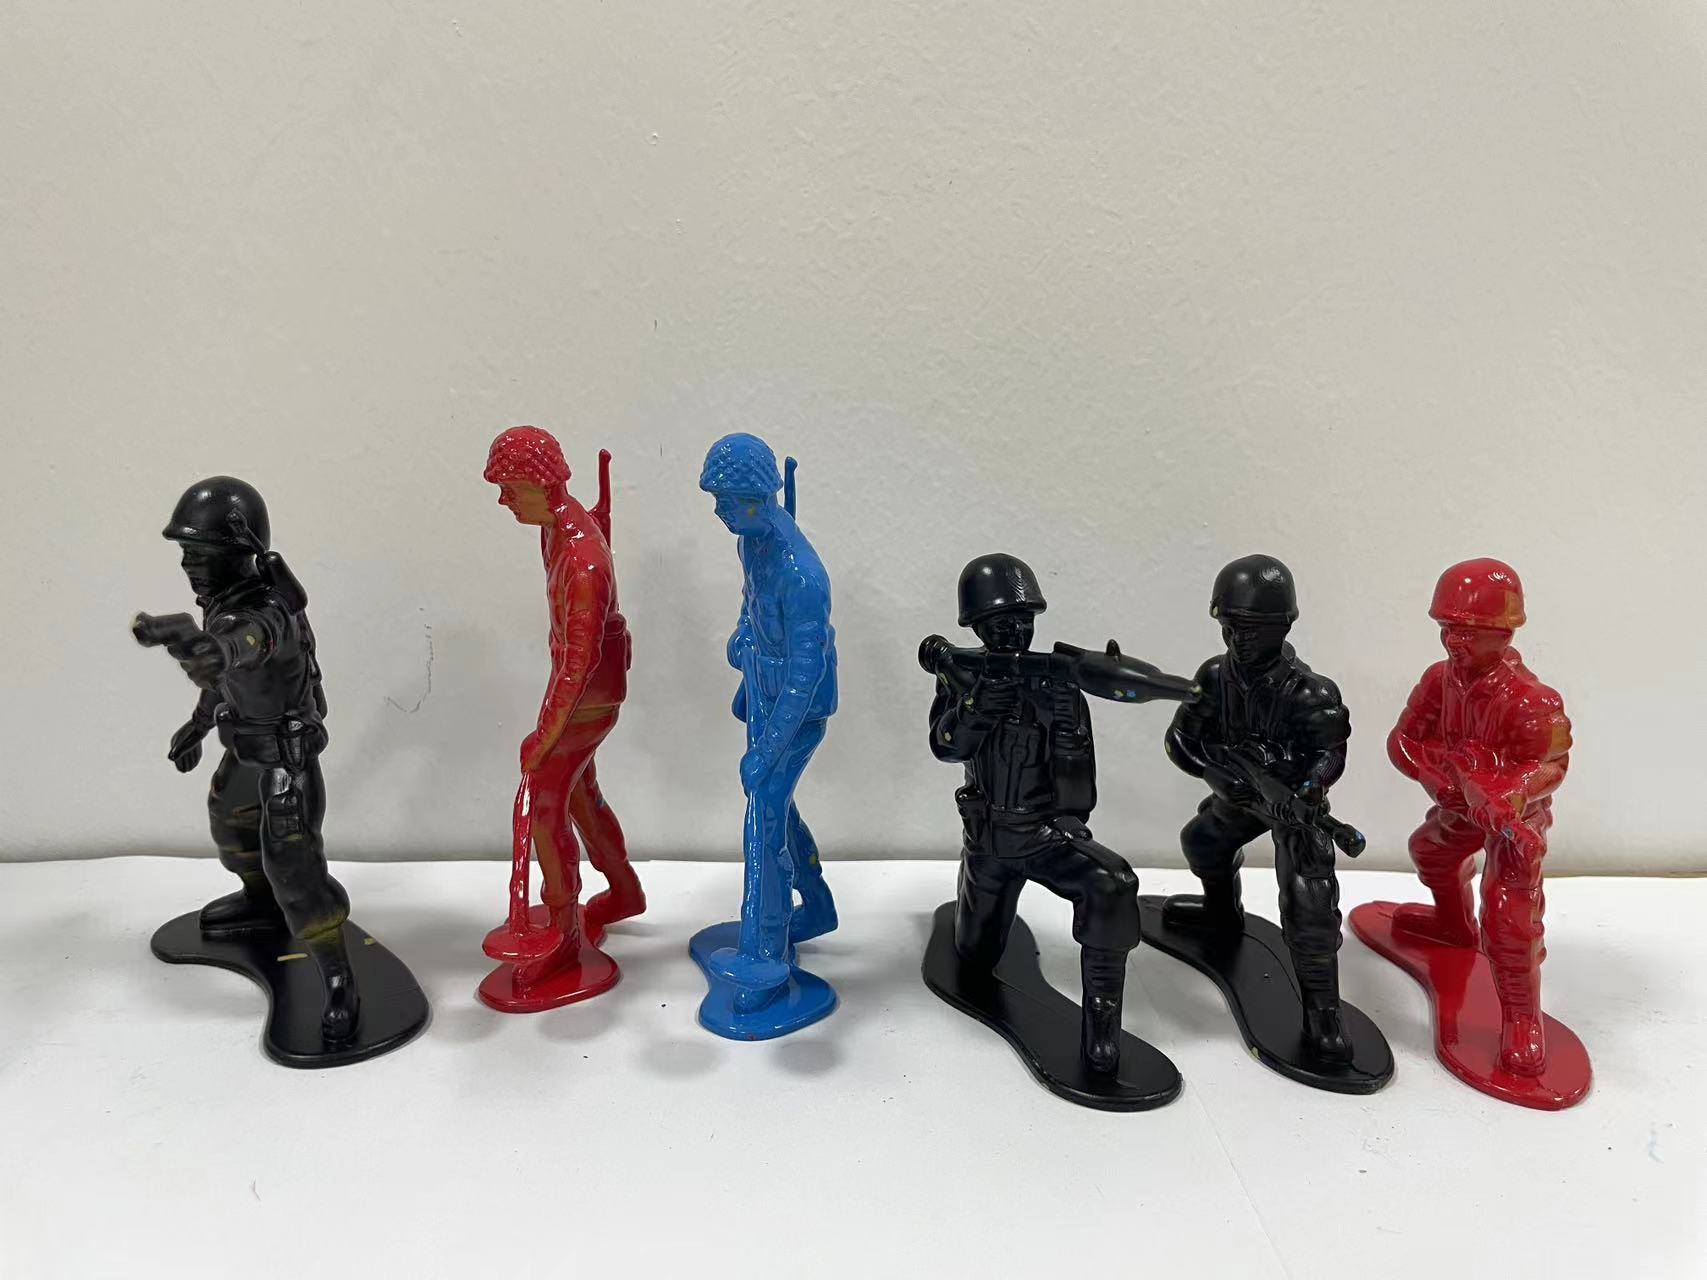black: (85, 454, 440, 1116), (905, 546, 1185, 1128), (1140, 522, 1395, 1128)
blue: (688, 403, 888, 1092)
red: (1368, 534, 1634, 1164), (448, 401, 676, 1055)
